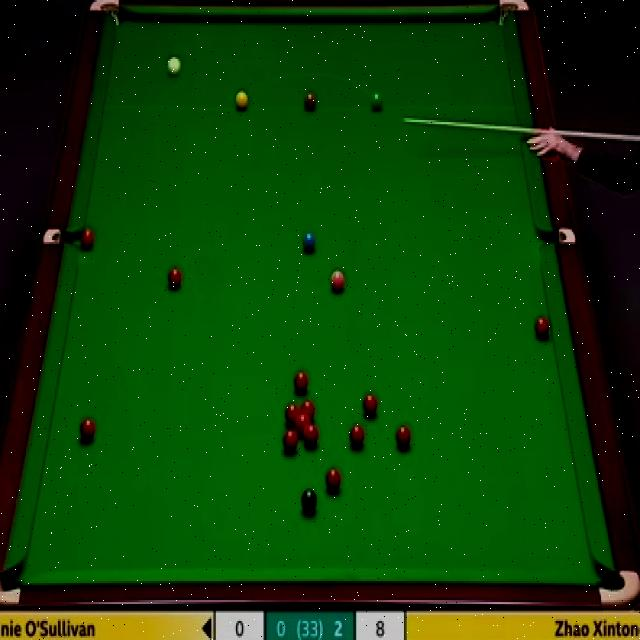black-ball: (300, 487, 316, 514)
blue-ball: (302, 229, 316, 256)
brown-ball: (303, 90, 317, 110)
green-ball: (370, 91, 384, 110)
pink-ball: (328, 269, 346, 293)
red-ball: (393, 424, 413, 452), (348, 423, 366, 453), (361, 390, 378, 420), (326, 464, 342, 495), (79, 416, 95, 444), (282, 429, 298, 455), (534, 316, 550, 342), (80, 227, 96, 253), (299, 399, 316, 423), (294, 371, 310, 396), (168, 265, 182, 292), (285, 402, 300, 427), (304, 423, 318, 448), (296, 414, 311, 436)
white-ball: (168, 53, 181, 79)
yellow-ball: (234, 90, 248, 110)
